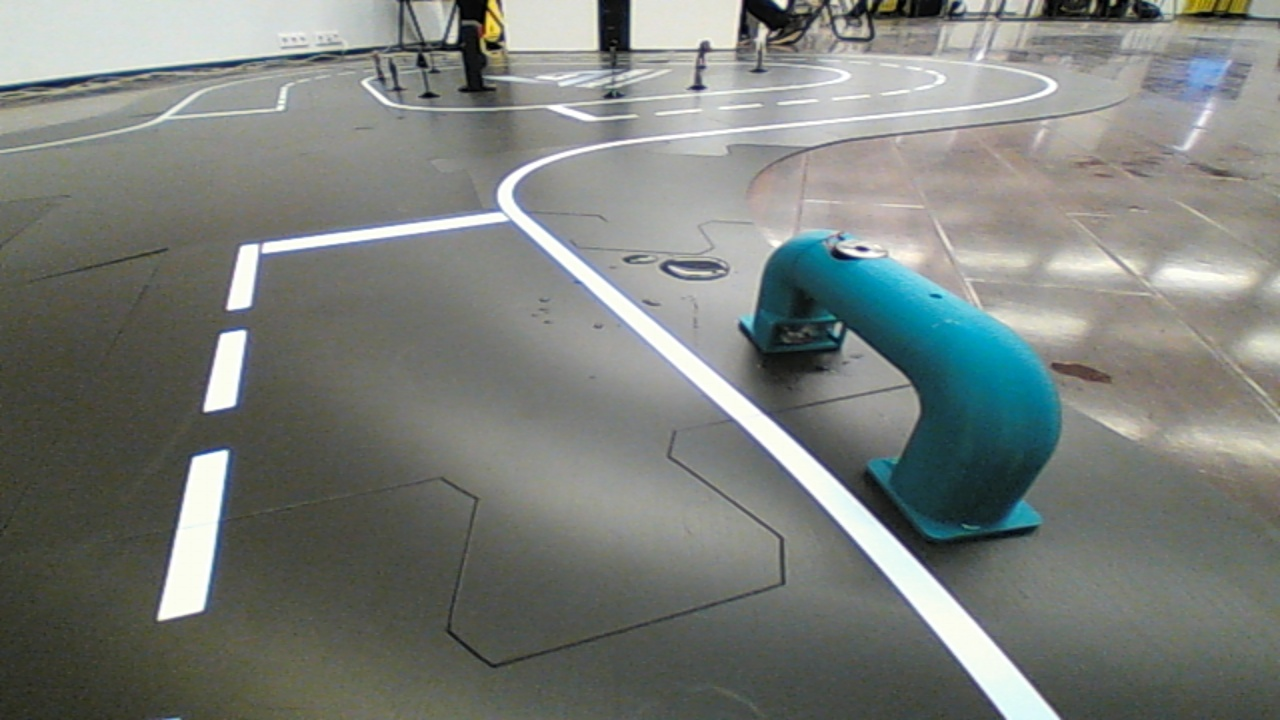Pedestrian crossing: (716, 204, 1070, 550)
